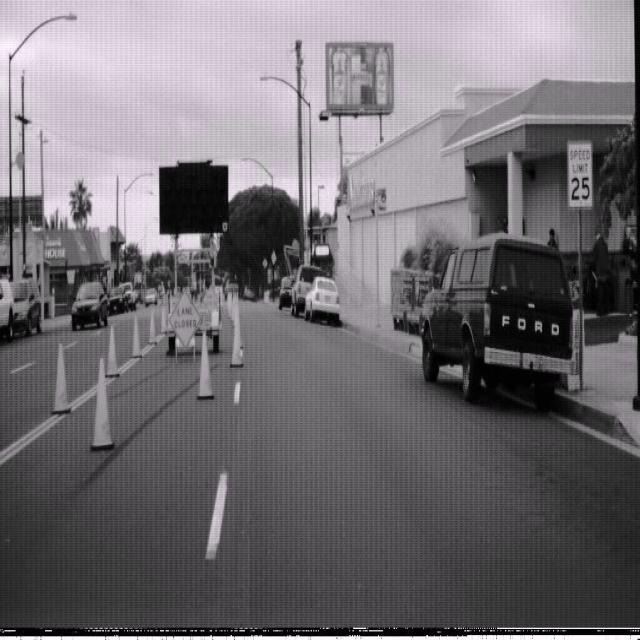speedLimit25: (567, 138, 593, 208)
